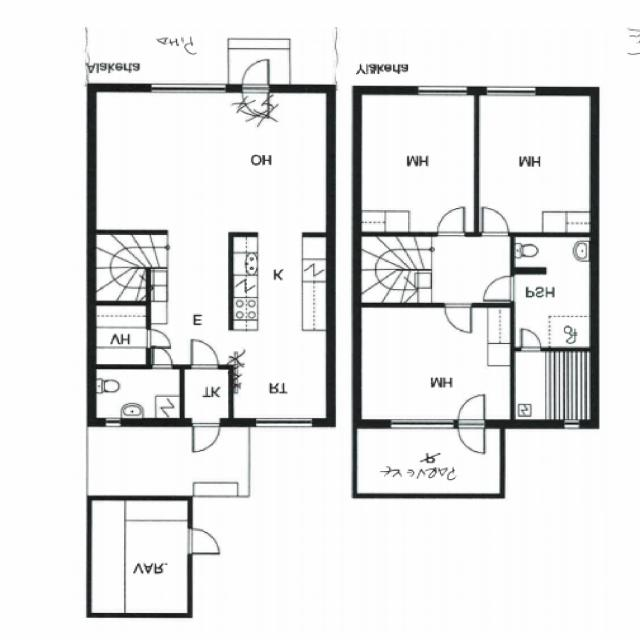door: (458, 419, 484, 454), (458, 394, 484, 428), (193, 418, 219, 451), (242, 60, 268, 93), (437, 206, 465, 236), (188, 529, 220, 554), (482, 208, 509, 236), (445, 303, 471, 331), (192, 341, 217, 369), (484, 277, 514, 300), (153, 346, 172, 369), (522, 329, 541, 352), (146, 346, 169, 362)
